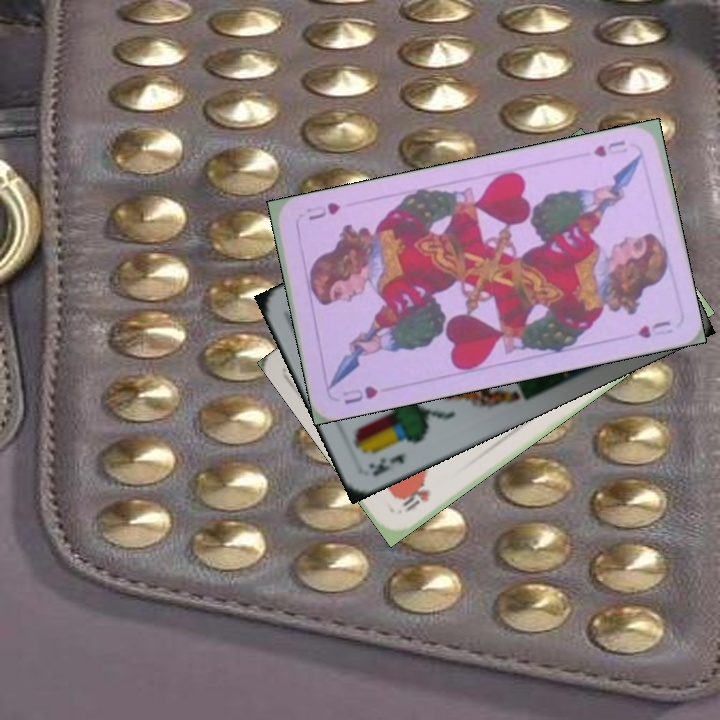EK: (364, 448, 409, 479)
HO: (398, 480, 433, 515)
HU: (340, 381, 380, 407), (589, 136, 631, 160)
